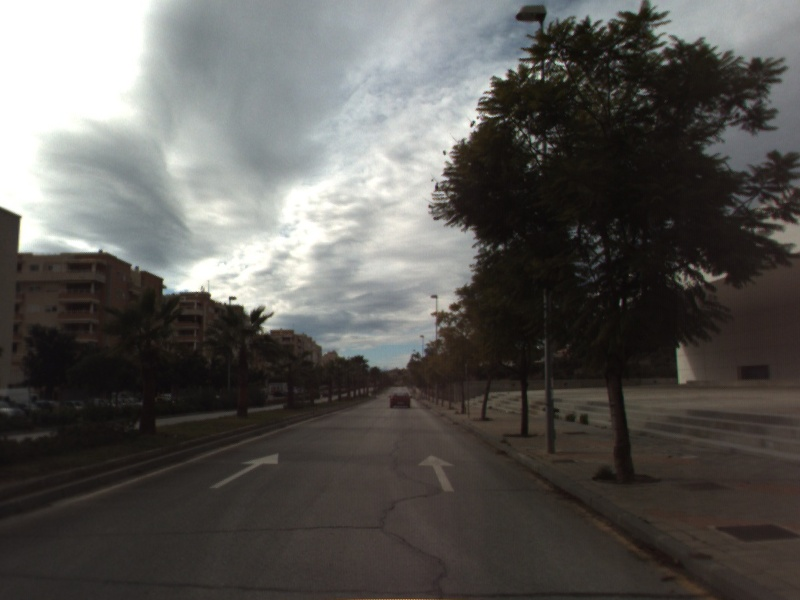STRAIGHT: (208, 451, 280, 490), (416, 452, 457, 494)
